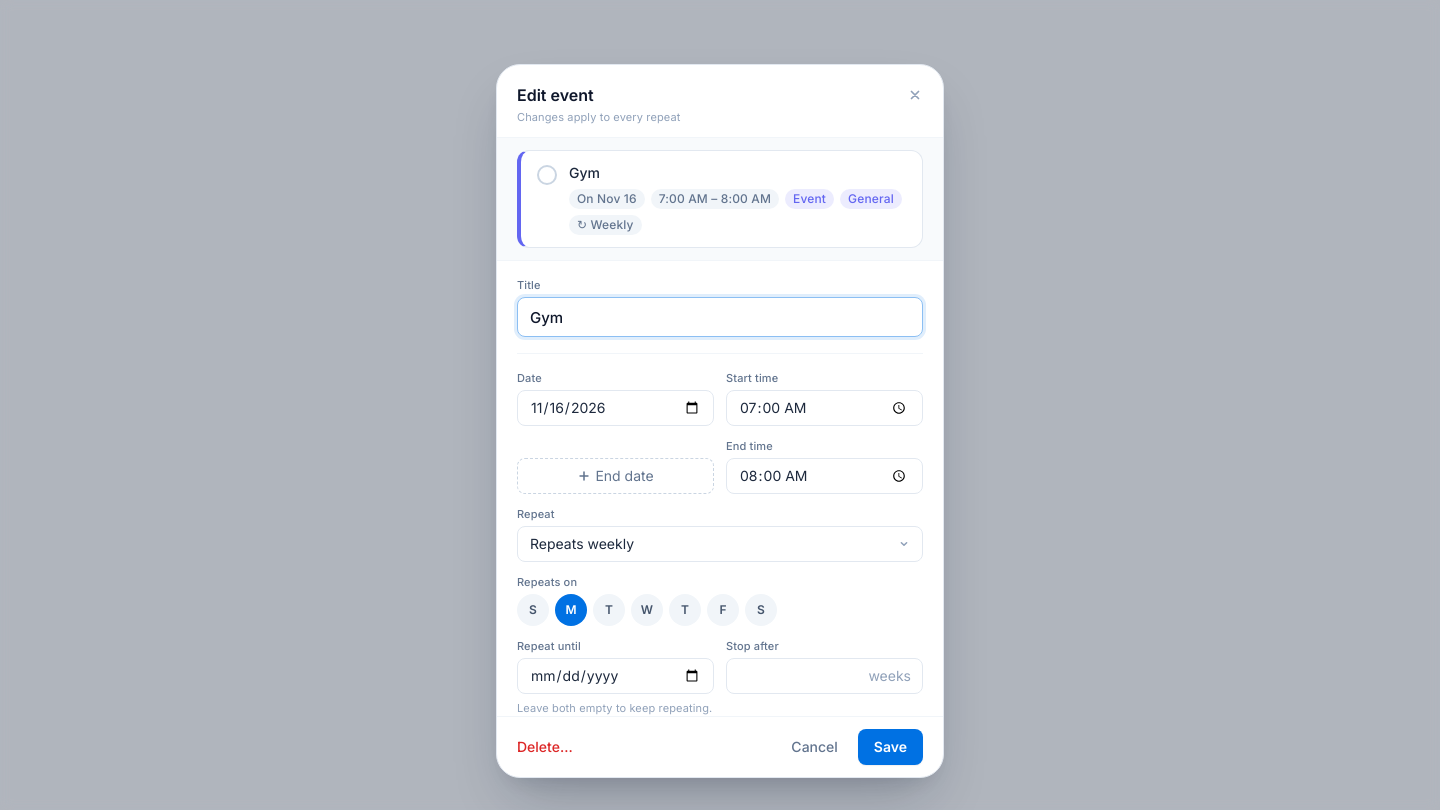
Edit item (desktop) › edits which days a weekly repeat falls on
Later steps or results of the test are not shown.
Click the button named "Wednesday": (647, 610) [631,594,663,626]
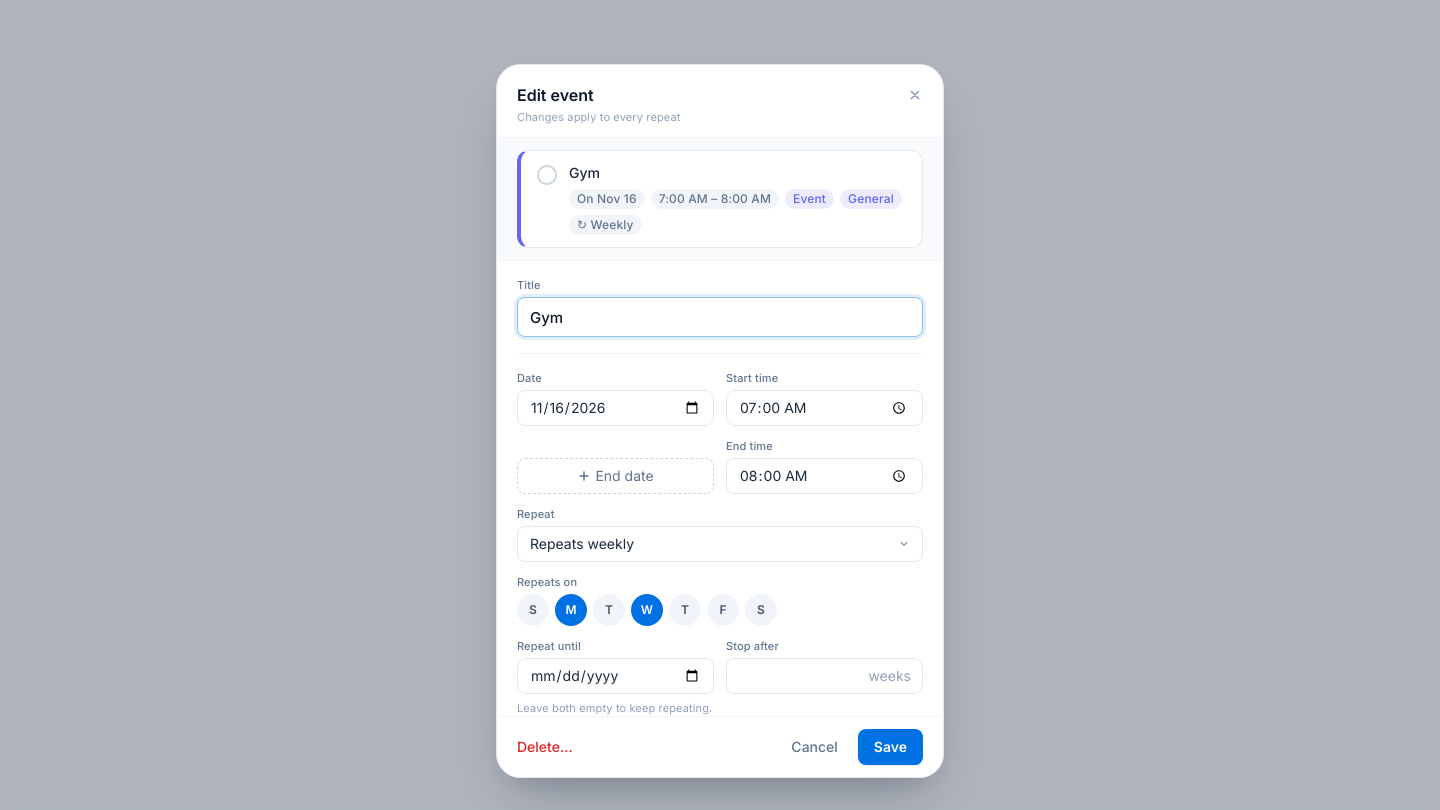
// The last day can't be turned off
Click the button named "Monday": (571, 610) [555,594,587,626]
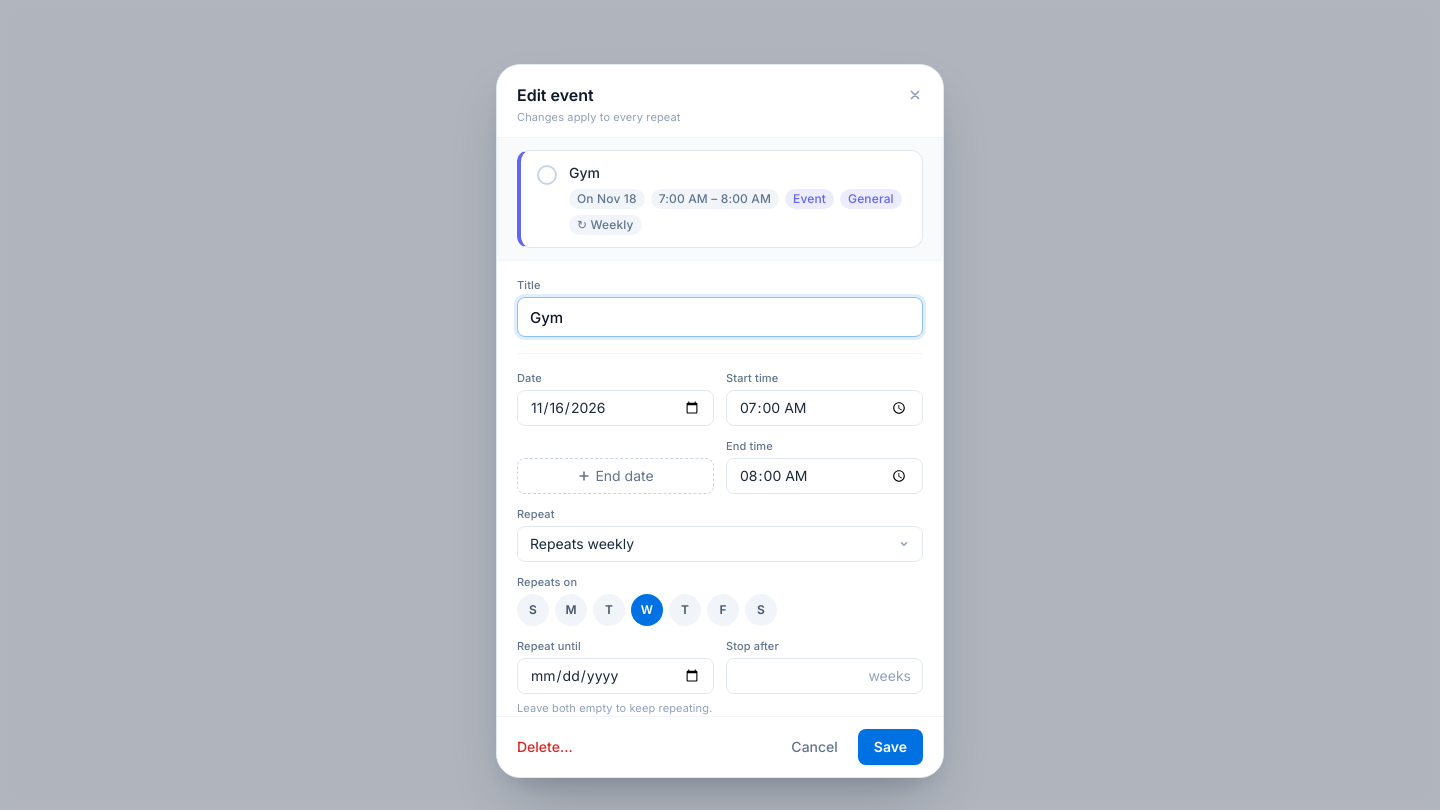
Click the button named "Wednesday": (647, 610) [631,594,663,626]
Result: the button named "Wednesday" is pressed at [631,594,663,626]
